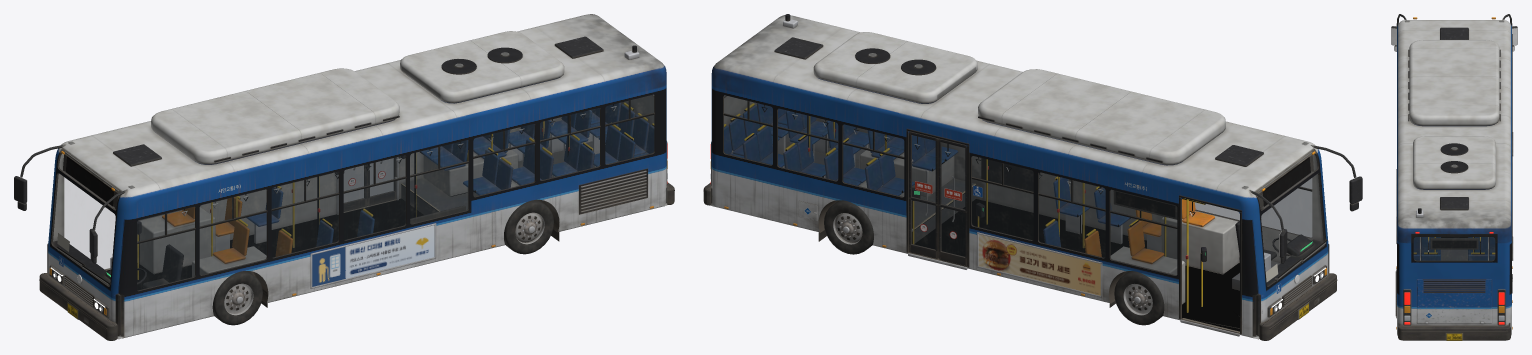
File: PH_Bus__Body.fbx
The picture shows the model from 3 angles, left to right: view 1: azimuth 30°, elevation 25°; view 2: azimuth 150°, elevation 25°; view 3: azimuth 270°, elevation 25°; orthographic projection. The views are drawn at different scales.
Visible parts, largest first — view 1: PH_Bus__Body; view 2: PH_Bus__Body; view 3: PH_Bus__Body.
Boxes of the visible parts, x1,y1,x2,y2 form: PH_Bus__Body: (14, 14, 674, 340); PH_Bus__Body: (703, 14, 1362, 340); PH_Bus__Body: (1391, 14, 1517, 340).
Bounding box in the file's own units: 11.51 × 3.22 × 2.74.
